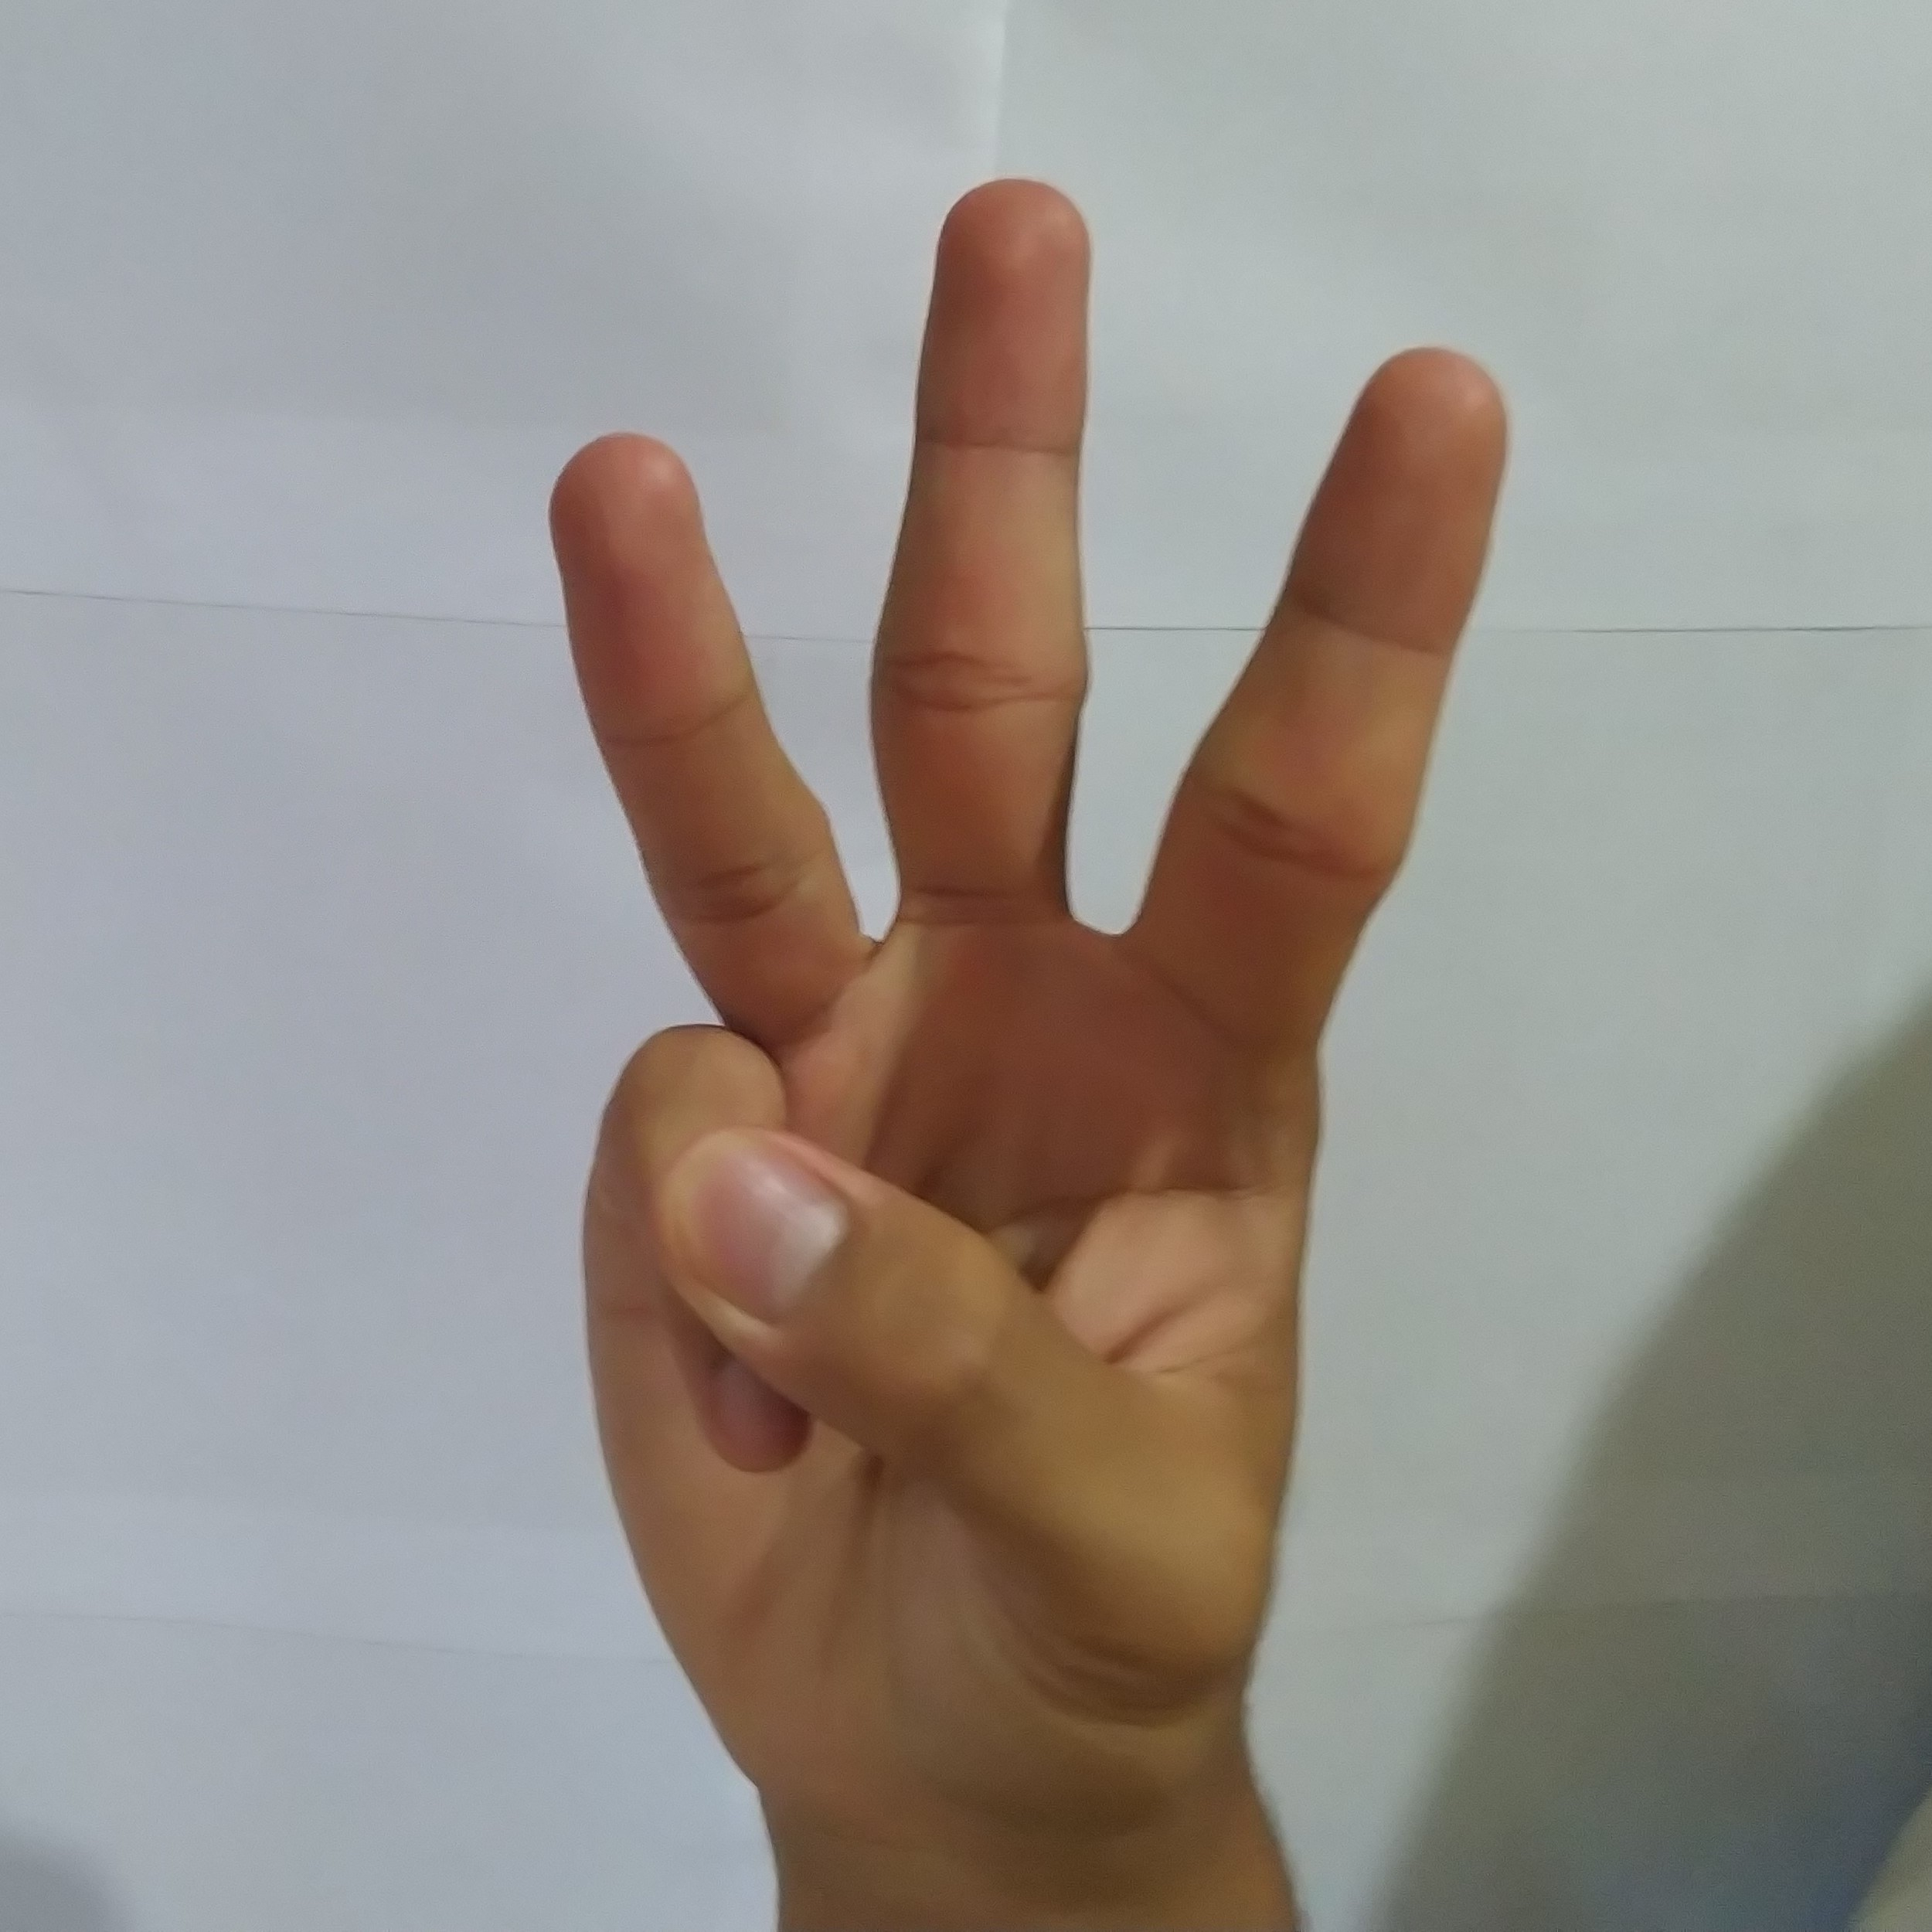W: (501, 152, 1532, 1789)
